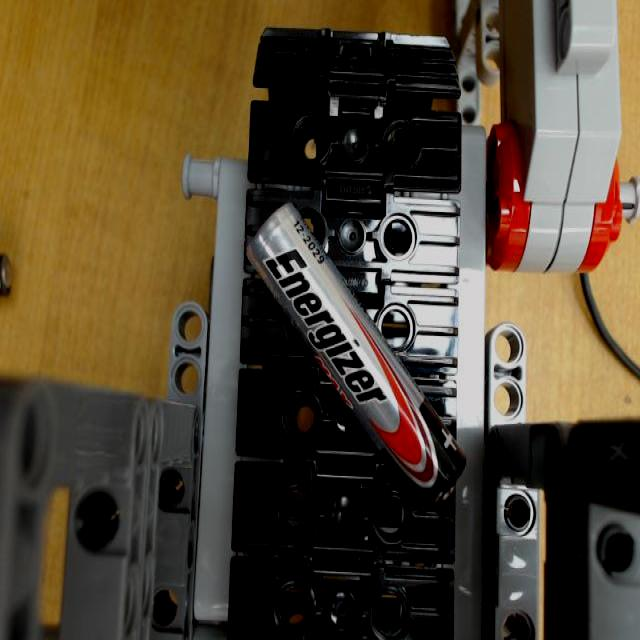AAA: (247, 200, 468, 516)
